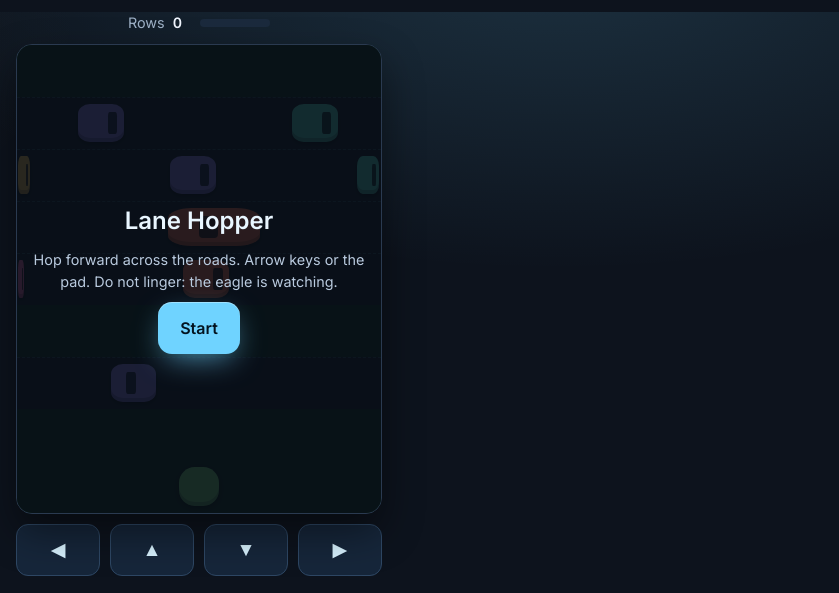
Test case: LaneHopper › reports a finished run exactly once under StrictMode
Click the button "Start". click: point(199, 328)
box: x1=158 y1=302 x2=240 y2=354
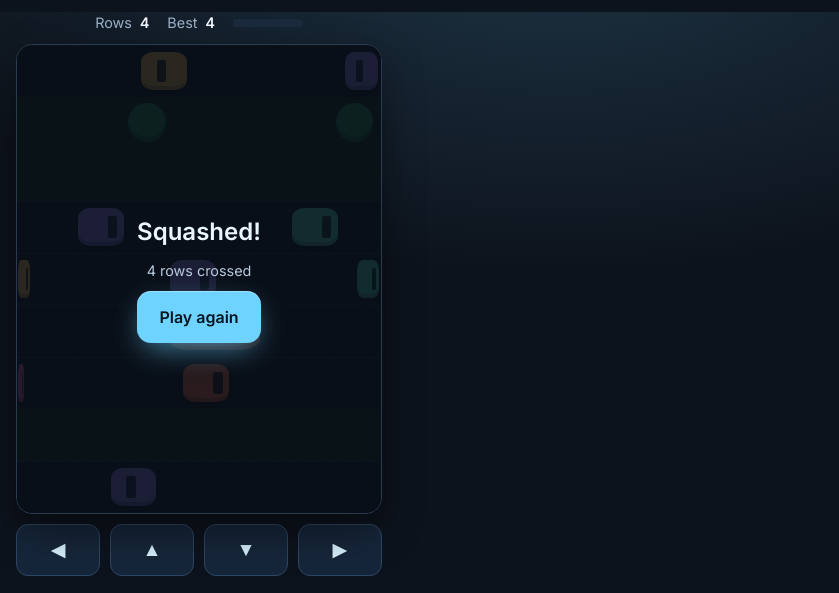
Expected: the text "Squashed!" is shown, x1=137 y1=214 x2=261 y2=250
